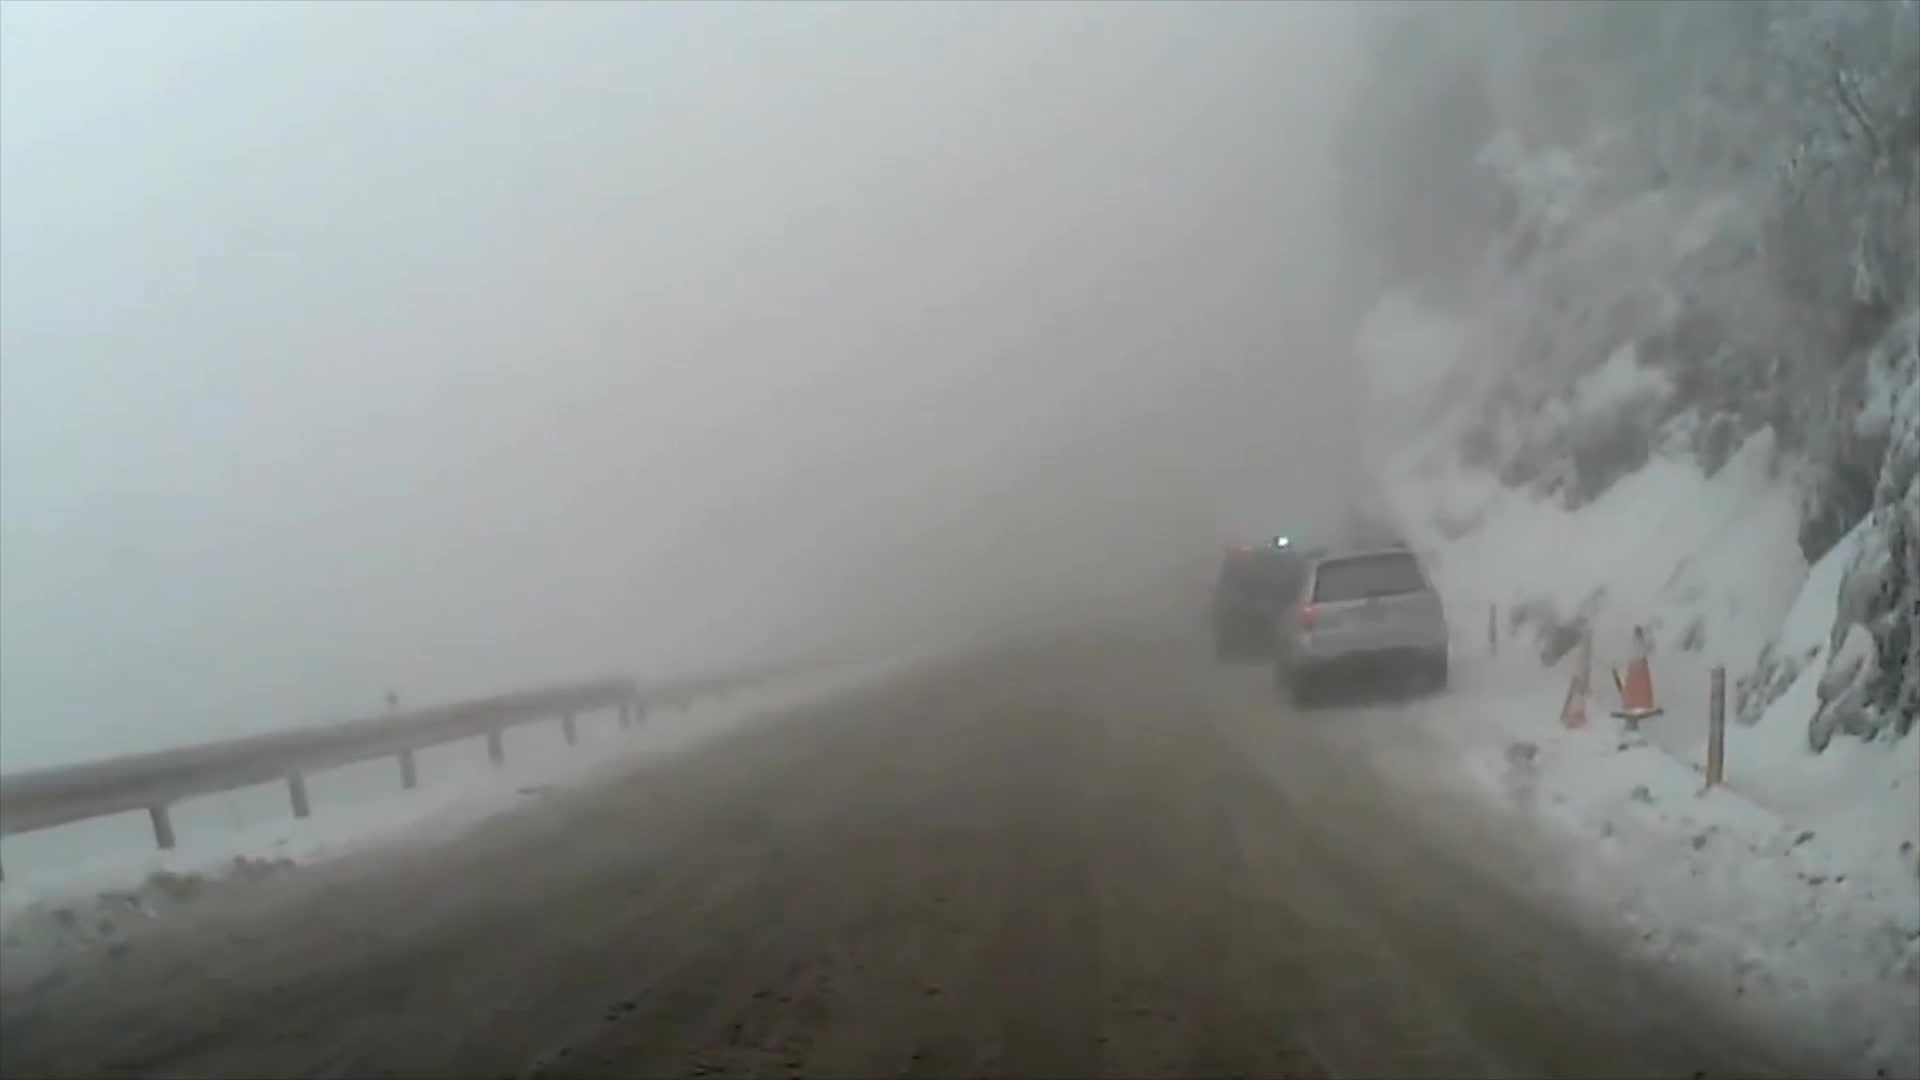vehicle: (1271, 535, 1447, 707), (1203, 539, 1328, 676)
